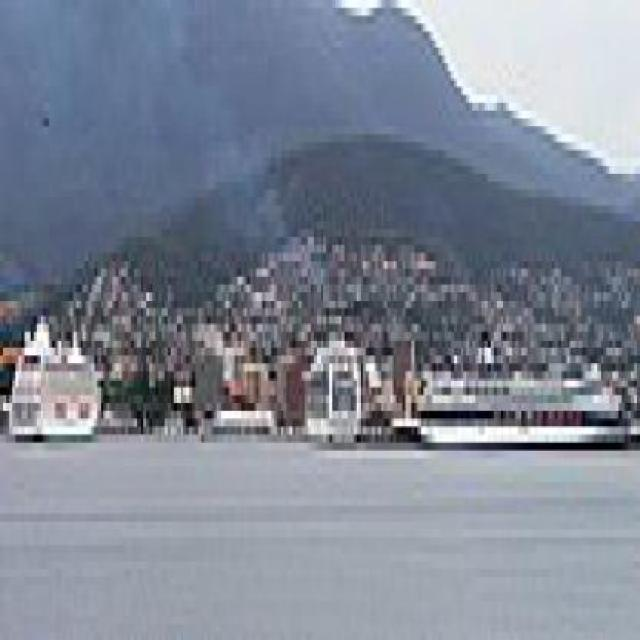cruise: (415, 357, 632, 460), (6, 309, 105, 451)
